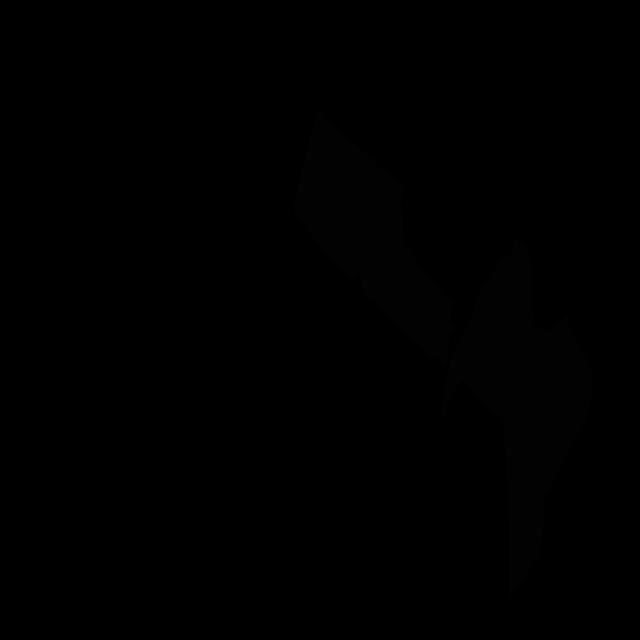cardboard: (441, 238, 594, 600), (294, 112, 455, 370)
